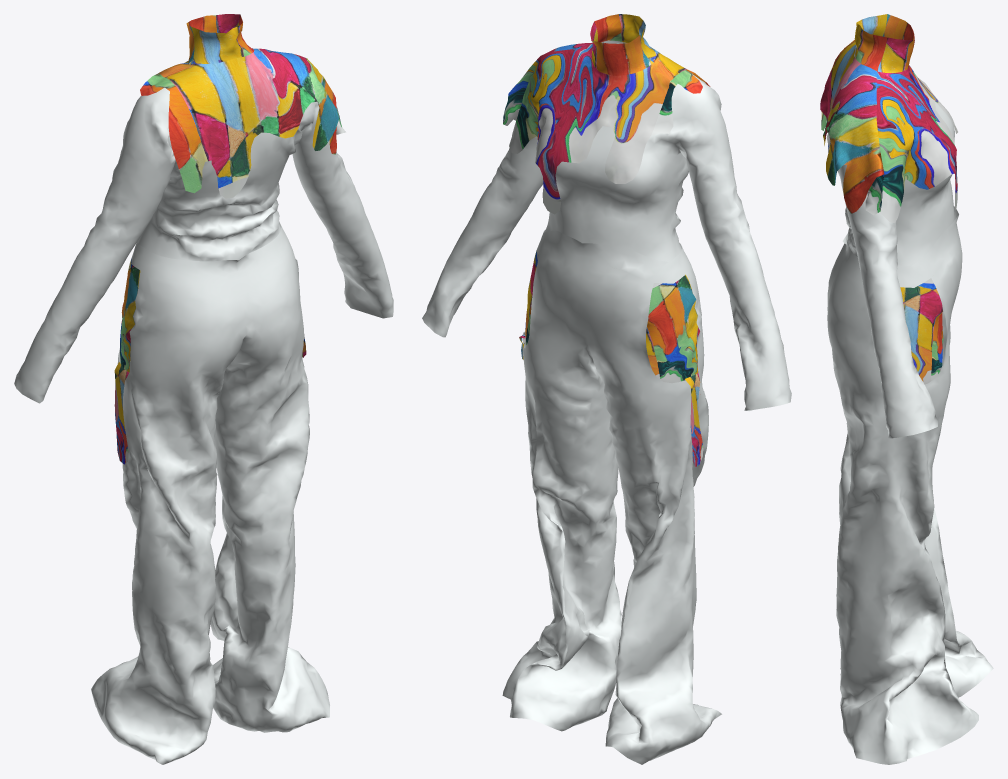
The model's file is vera_megkisebb_tomorebb.glb.
3 views of the same model, side by side, from view 1: azimuth 30°, elevation 25°; view 2: azimuth 150°, elevation 25°; view 3: azimuth 270°, elevation 25° (orthographic). The views are drawn at different scales.
Visible parts, largest first — view 1: verarealin; view 2: verarealin; view 3: verarealin.
Boxes of the visible parts, left/top/right/bottom form: verarealin: left=14, top=14, right=393, bottom=764; verarealin: left=422, top=14, right=791, bottom=764; verarealin: left=820, top=14, right=993, bottom=764.
Bounding box in the file's own units: 0.4332 × 0.7915 × 0.1806.
Materials: 4 (4 with a texture image).
